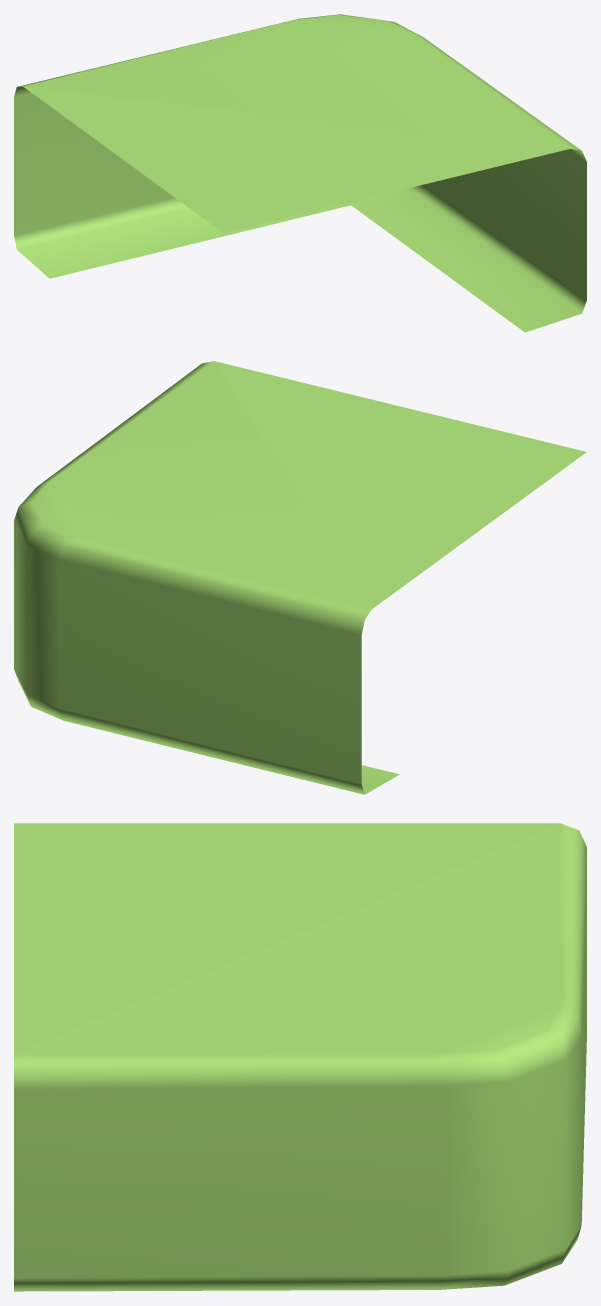
File: Grass_Corner.fbx
3 renders of one model, top to bottom at view 1: azimuth 30°, elevation 25°; view 2: azimuth 150°, elevation 25°; view 3: azimuth 270°, elevation 25°, orthographic. The views are drawn at different scales.
Parts seen in each view (by area): view 1: GrassCorner; view 2: GrassCorner; view 3: GrassCorner.
Part boxes in pixels (left/top/right/bottom): GrassCorner: left=14, top=14, right=586, bottom=332; GrassCorner: left=14, top=361, right=586, bottom=794; GrassCorner: left=14, top=823, right=586, bottom=1291.
Bounding box in the file's own units: 2.2 × 1 × 2.2.
